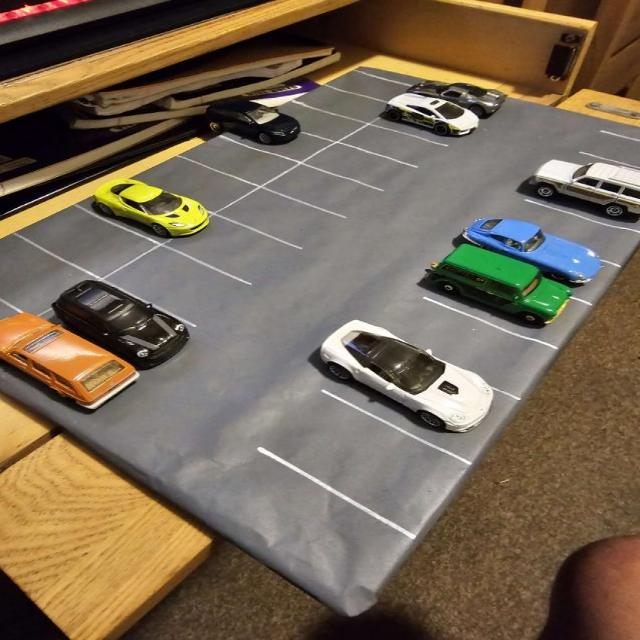Empty: (255, 388, 476, 540), (377, 296, 560, 400), (94, 243, 255, 331), (158, 212, 311, 289), (13, 205, 162, 281), (493, 197, 640, 268), (210, 184, 354, 252), (0, 232, 107, 317), (125, 154, 265, 214), (256, 160, 390, 221), (296, 141, 419, 195), (177, 135, 302, 188), (332, 122, 451, 170), (289, 83, 394, 127), (324, 69, 418, 103), (578, 132, 640, 170)
Taken: (319, 329, 524, 468), (421, 250, 595, 354), (30, 278, 199, 375), (459, 219, 626, 309), (0, 313, 141, 417), (74, 178, 215, 244), (522, 158, 640, 235), (368, 103, 486, 146), (219, 122, 341, 163), (401, 78, 508, 124)
